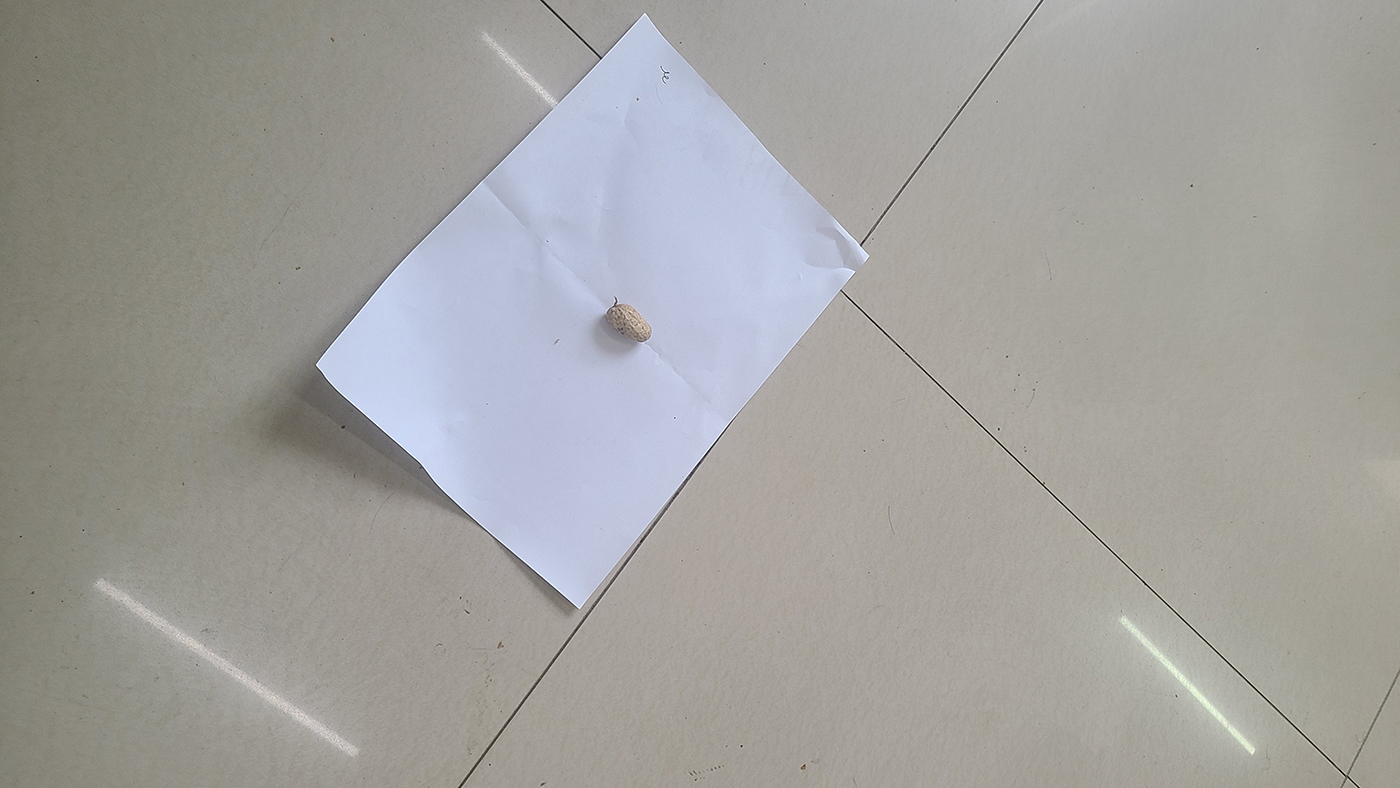h: (605, 303, 653, 342)
